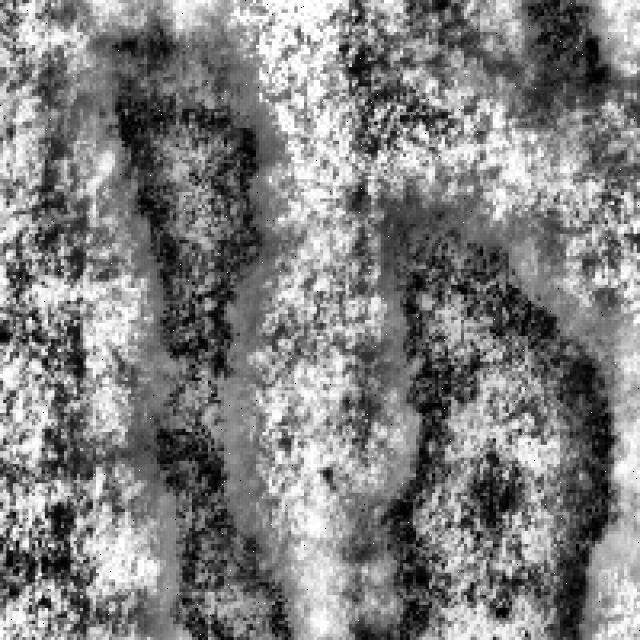Scratches: (83, 9, 291, 636), (362, 195, 624, 637), (518, 0, 618, 90)
